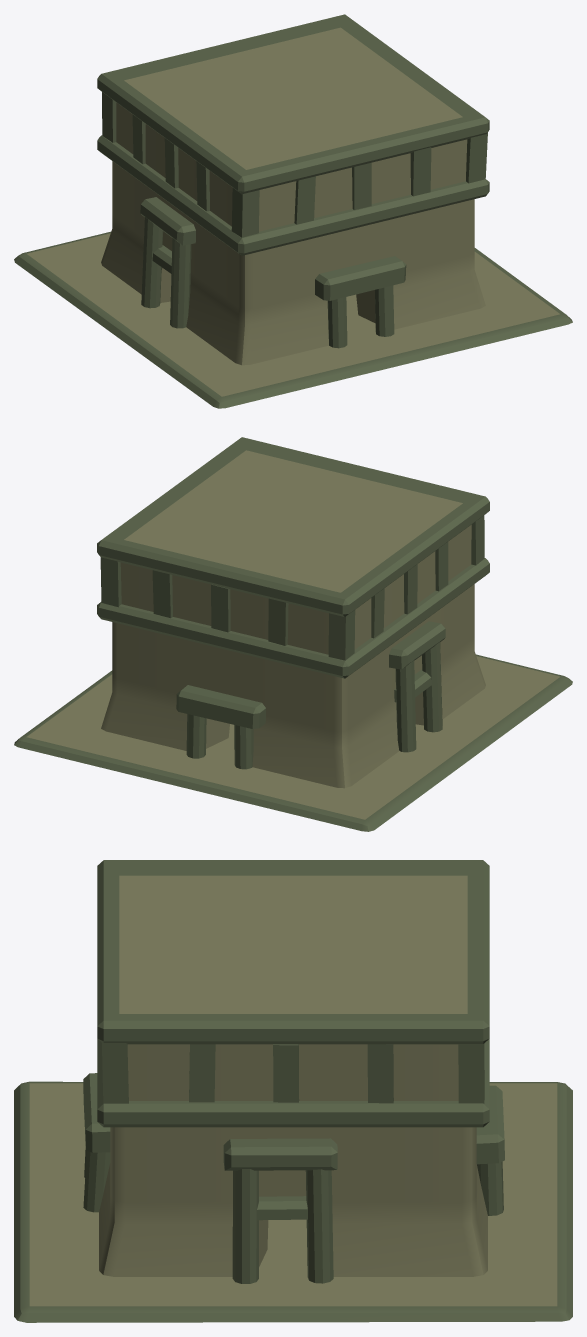
The model's file is House.fbx.
3 views of the same model, one above another, from view 1: azimuth 30°, elevation 25°; view 2: azimuth 150°, elevation 25°; view 3: azimuth 270°, elevation 25° (orthographic). The views are drawn at different scales.
Visible parts, largest first — view 1: pyramid_maya_sections, pyramid_maya_up, pyramid_maya_columns; view 2: pyramid_maya_sections, pyramid_maya_up, pyramid_maya_columns; view 3: pyramid_maya_sections, pyramid_maya_up, pyramid_maya_columns.
Boxes of the visible parts, left/top/right/bottom form: pyramid_maya_sections: left=14, top=102, right=572, bottom=408; pyramid_maya_up: left=97, top=14, right=489, bottom=300; pyramid_maya_columns: left=141, top=217, right=394, bottom=348; pyramid_maya_sections: left=14, top=524, right=572, bottom=831; pyramid_maya_up: left=97, top=437, right=489, bottom=728; pyramid_maya_columns: left=186, top=642, right=442, bottom=769; pyramid_maya_sections: left=14, top=1044, right=572, bottom=1322; pyramid_maya_up: left=83, top=860, right=504, bottom=1220; pyramid_maya_columns: left=83, top=1149, right=503, bottom=1283.
Size of the model in its own units: 13.6 by 7.08 by 13.57.
